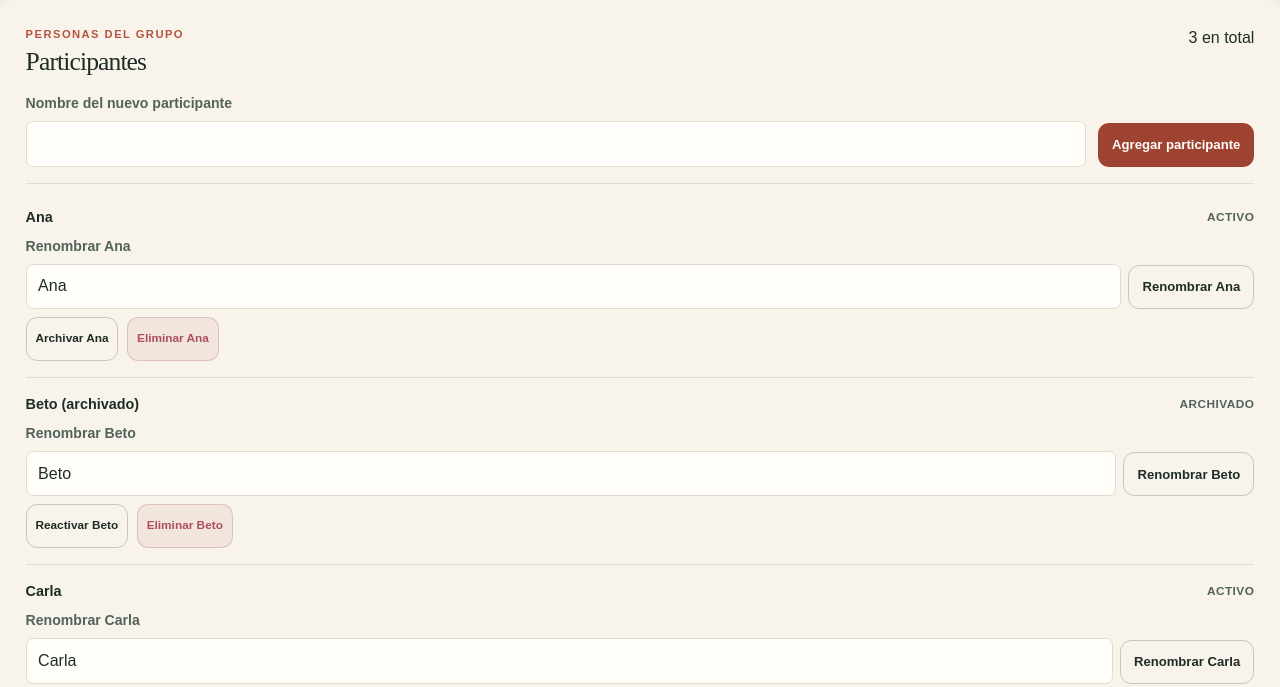
Test: participants panel › surfaces a duplicate add error inline and leaves the existing list intact
Expected: the text "Ana" is shown, [26, 207, 53, 228]
Type " ana " into the field labelled "Nombre del nuevo participante".
click(556, 144); type(" ana ")  # box [26, 121, 1086, 167]
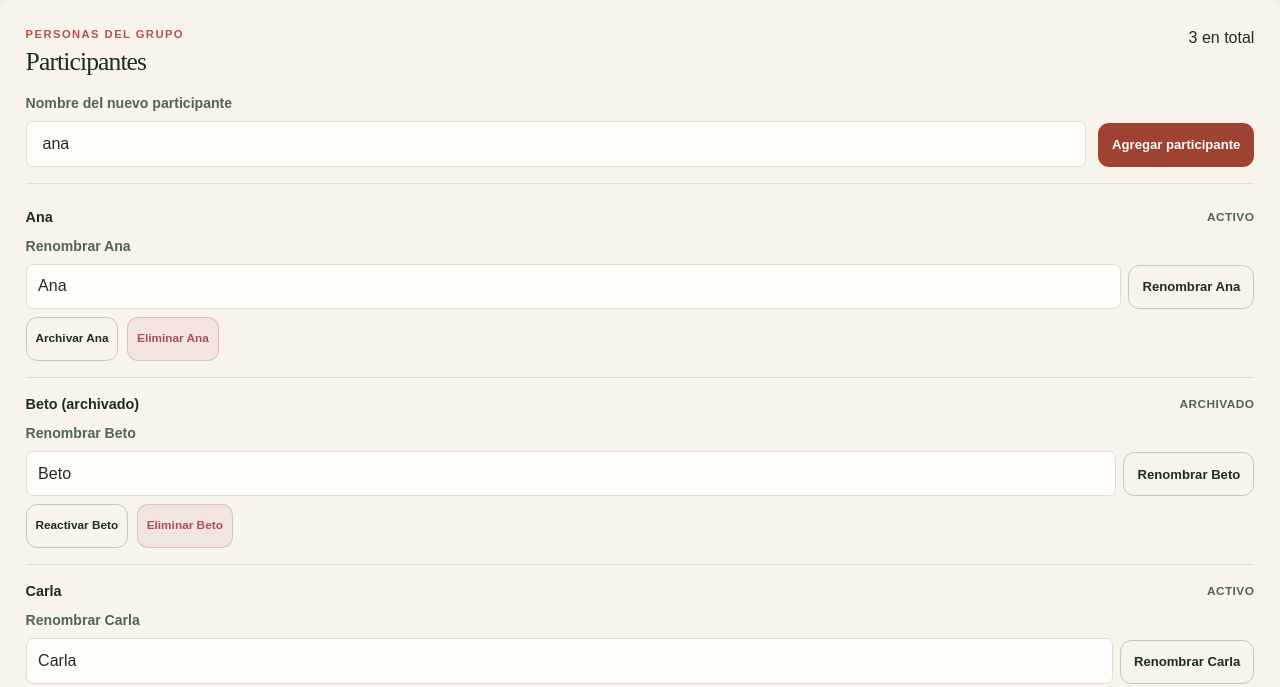
Click the button "Agregar participante".
click(1176, 145)  # box [1098, 123, 1254, 167]
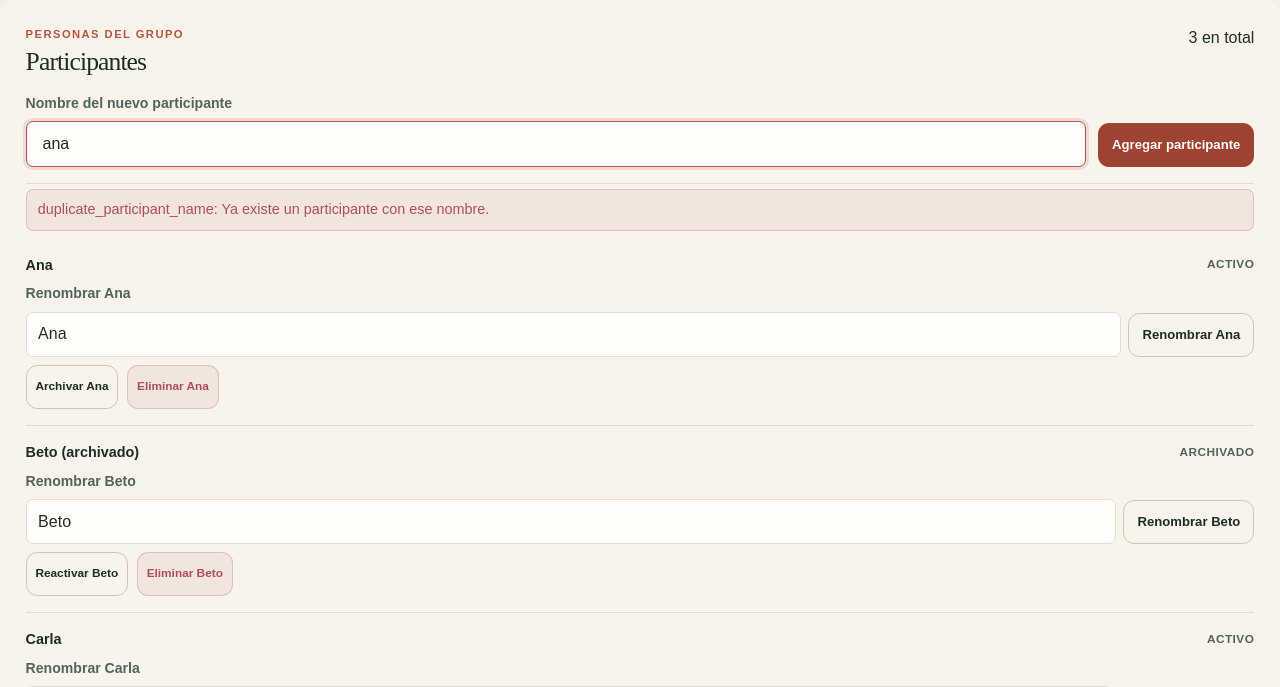
Expected: the text "duplicate_participant_name: Ya existe un participante con ese nombre." is shown, [26, 189, 1254, 231]
